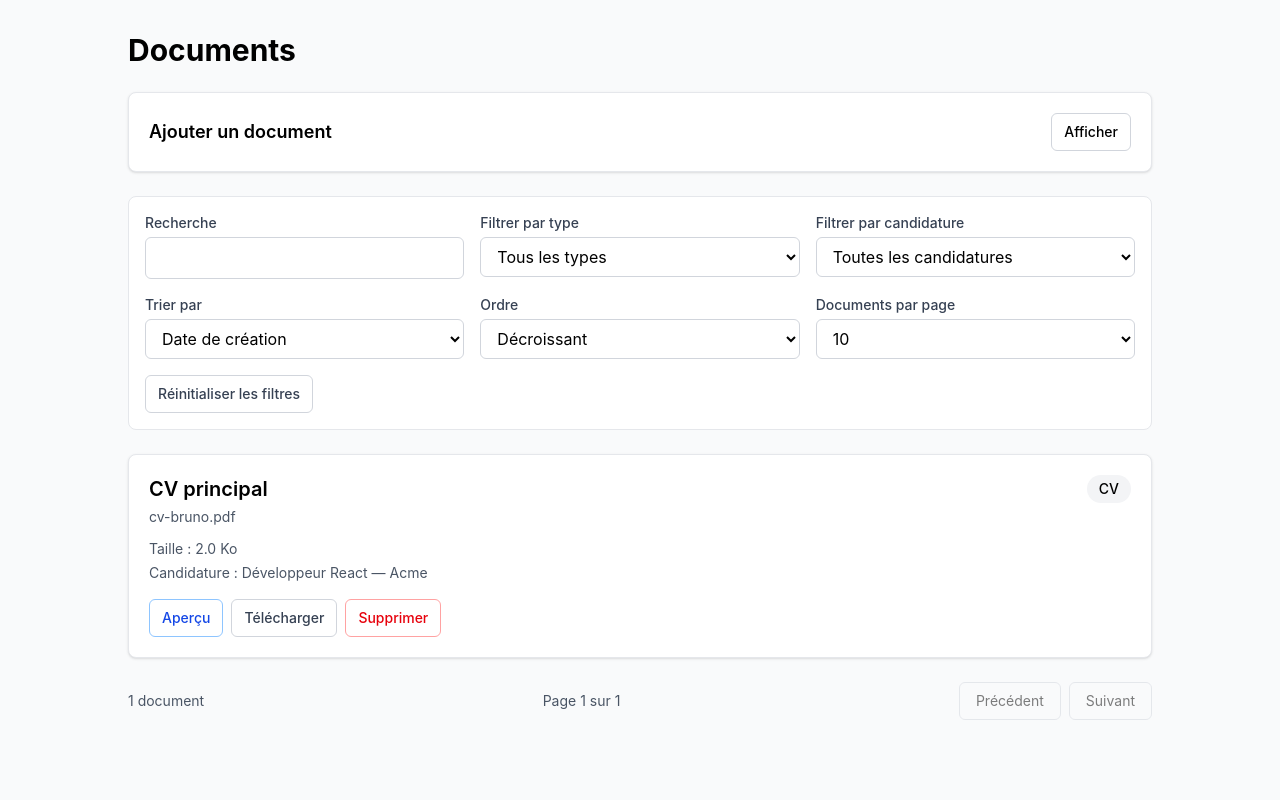
Test case: DocumentsPage › shows an error when a document download fails
Click the button "Télécharger" at {"x": 284, "y": 618}, box [232,599,337,637]
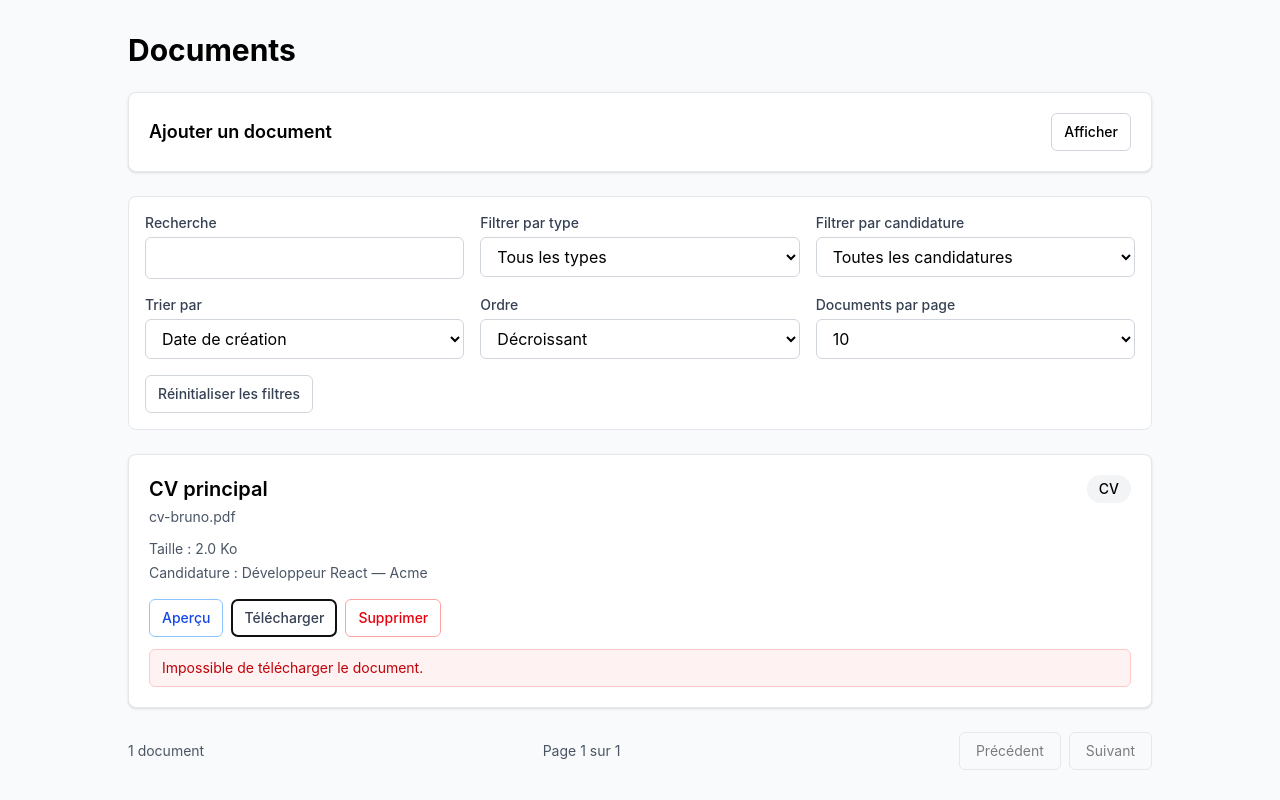
Expected: the message reads "Impossible de télécharger le document.", [162,659,423,676]
